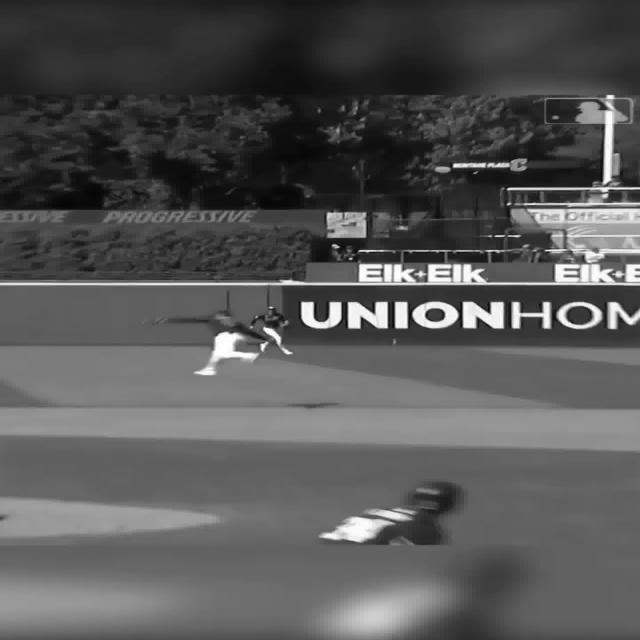baseball_glove: (142, 315, 168, 326)
shoe: (193, 368, 216, 376), (258, 341, 268, 352)
